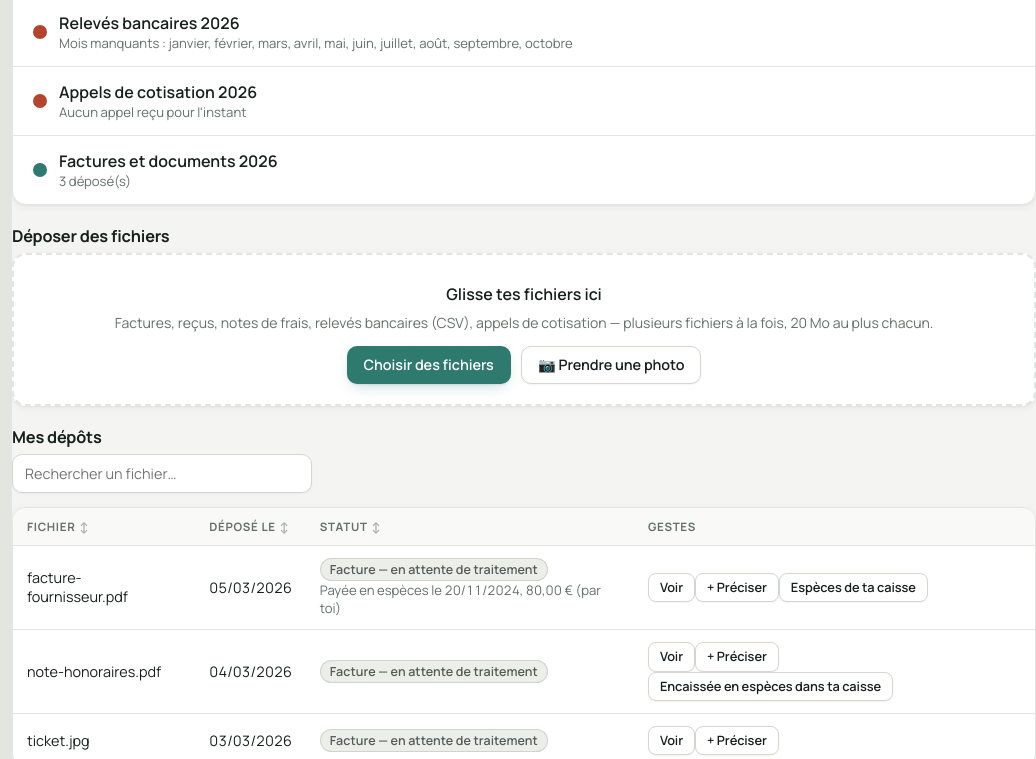
avec la case « Caisse » › le paiement d’avant la première année lue : « Retirer » grisé sous la phrase qui renvoie au cabinet, jamais « relis ta caisse »
(page scrolled)
Check: the text "facture-fournisseur.pdf" is shown, box [13,545,195,630]
Click the button "Espèces de ta caisse". click: (853, 587)
box: [779,573,928,602]
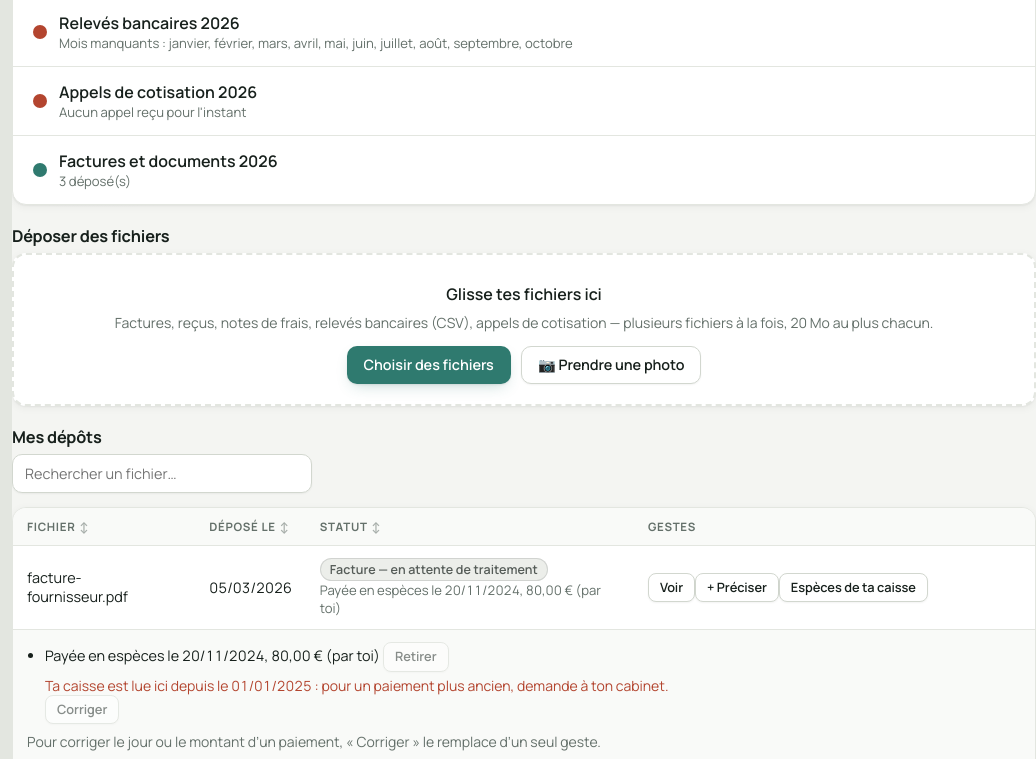
Check: the button "Retirer" is disabled, box [383,642,449,672]
Check: the text "Ta caisse est lue ici depuis le 01/01/2025 : pour un paiement plus ancien, demande à ton cabinet." is shown, box [45,676,668,694]
